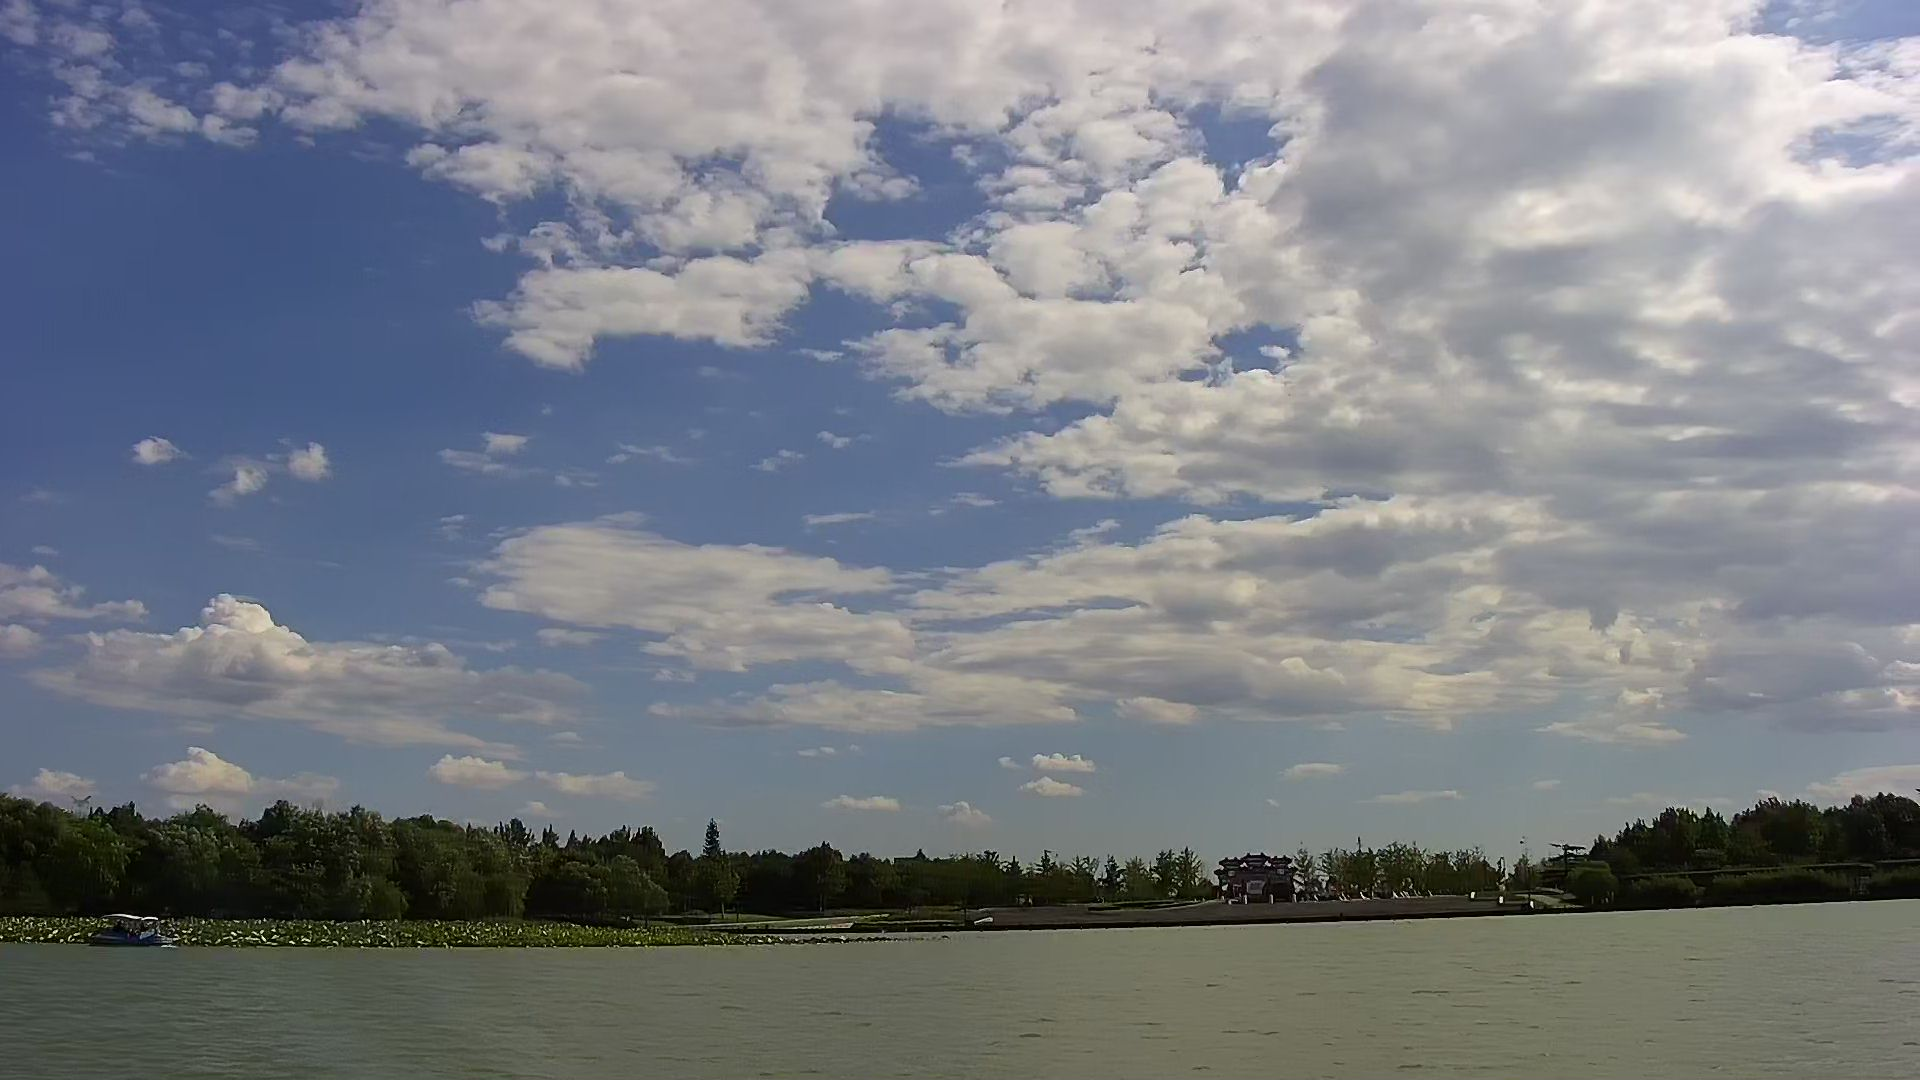boat: (88, 909, 181, 953)
harbor: (993, 887, 1609, 930)
